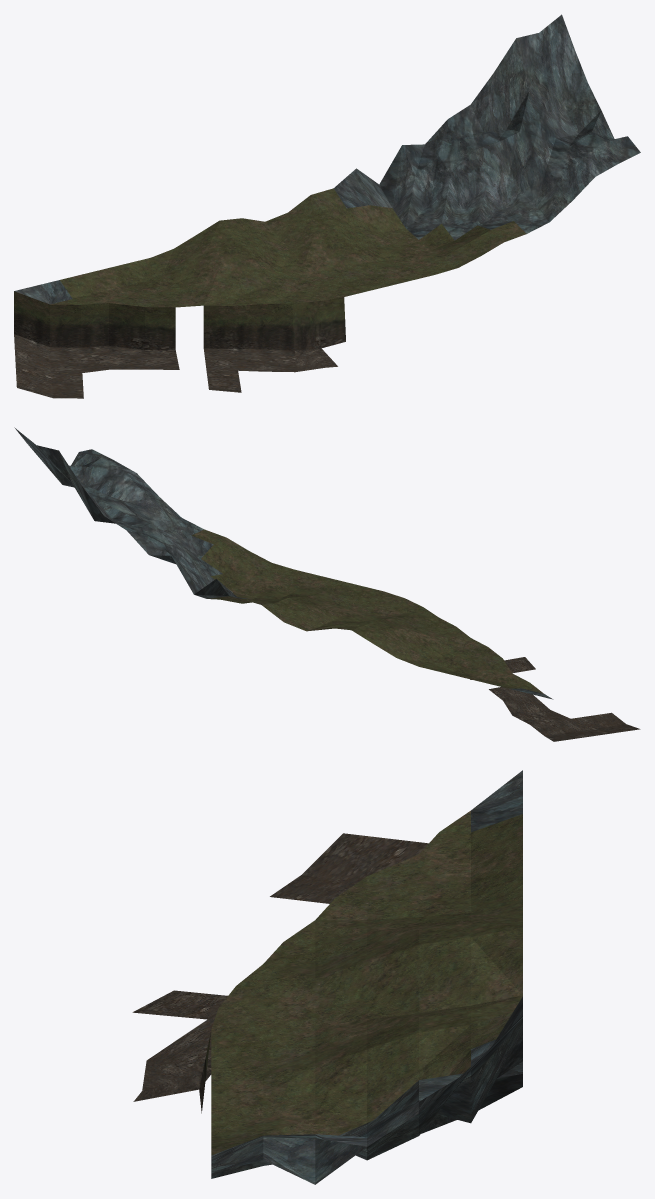
File: terrain_base03.fbx
3 renders of one model, top to bottom at view 1: azimuth 30°, elevation 25°; view 2: azimuth 150°, elevation 25°; view 3: azimuth 270°, elevation 25°, orthographic. The views are drawn at different scales.
Parts seen in each view (by area): view 1: obj2.009; view 2: obj2.009; view 3: obj2.009.
Part boxes in pixels (x1,y1,x2,y2): obj2.009: [14, 14, 640, 398]; obj2.009: [14, 427, 640, 741]; obj2.009: [132, 770, 522, 1184].
Size of the model in its own units: 64.68 by 21.42 by 18.82.
